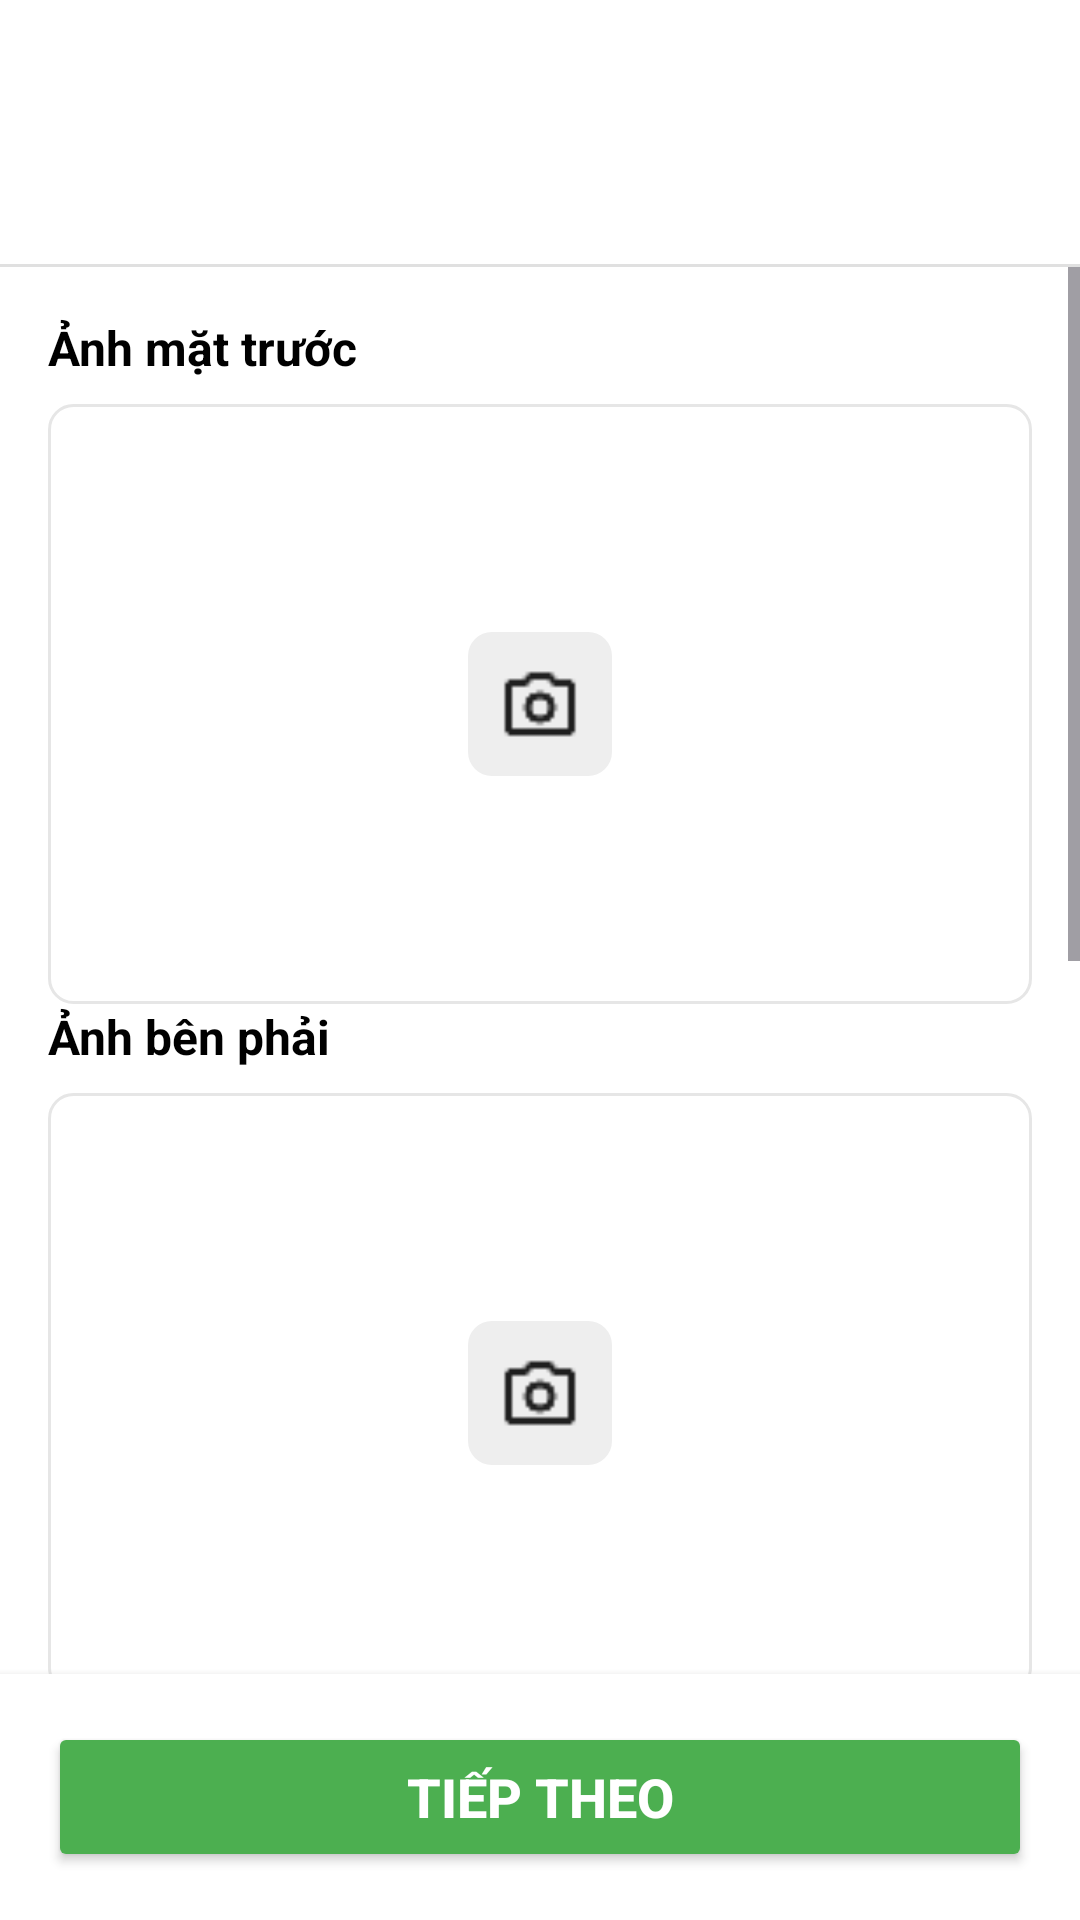

Icon bounding boxes for this 1080x1920 phone screenshot, format BBox(x1, y1, x2, y2):
camera: BBox(503, 671, 577, 737), BBox(503, 1360, 577, 1426)
